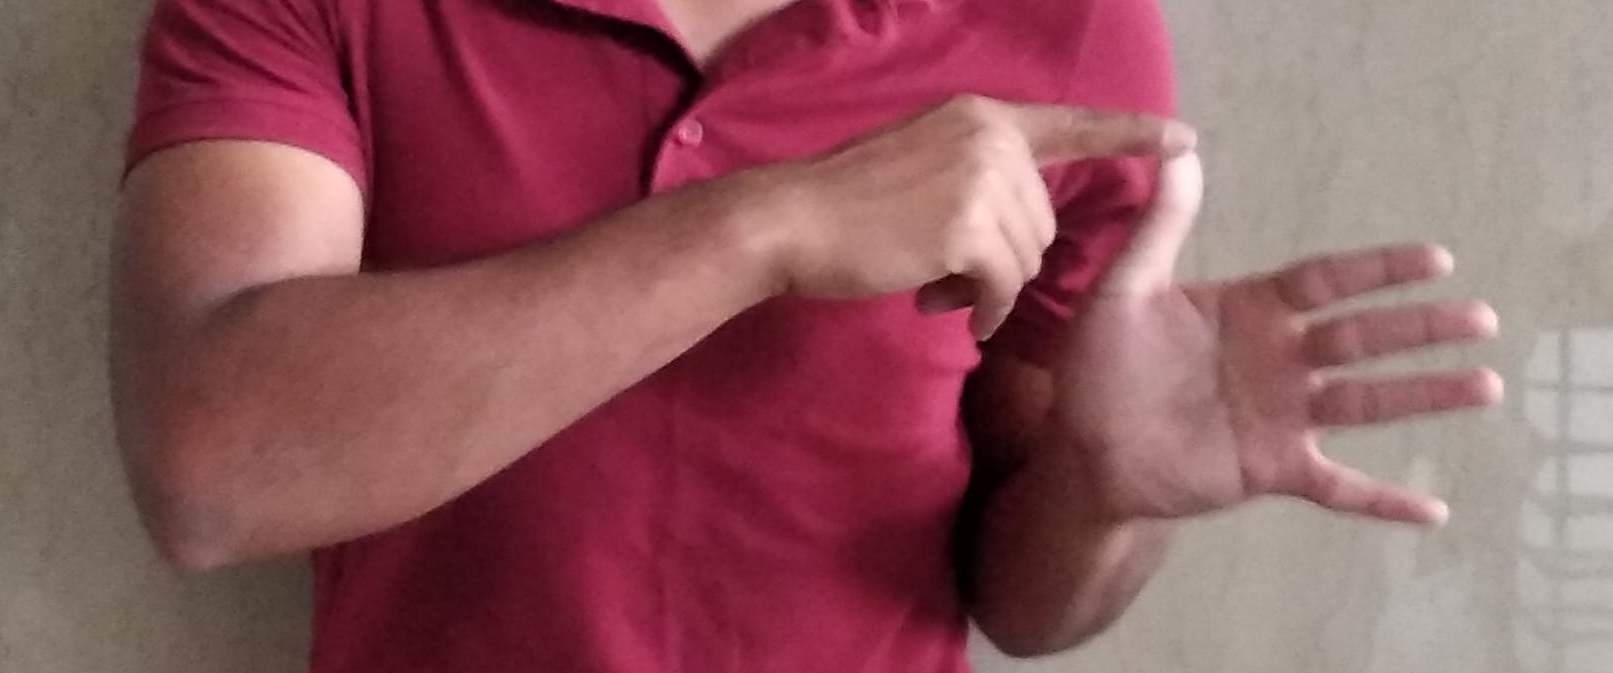a: (850, 88, 1502, 533)
